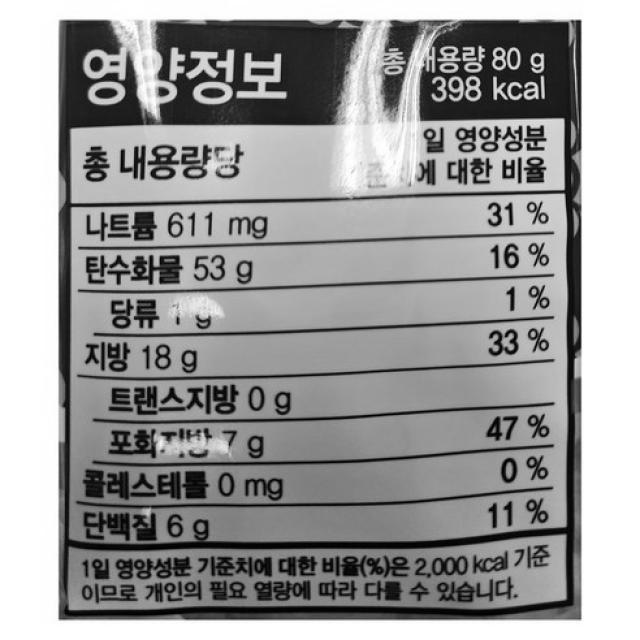Nutrition Label: (60, 17, 582, 617)
